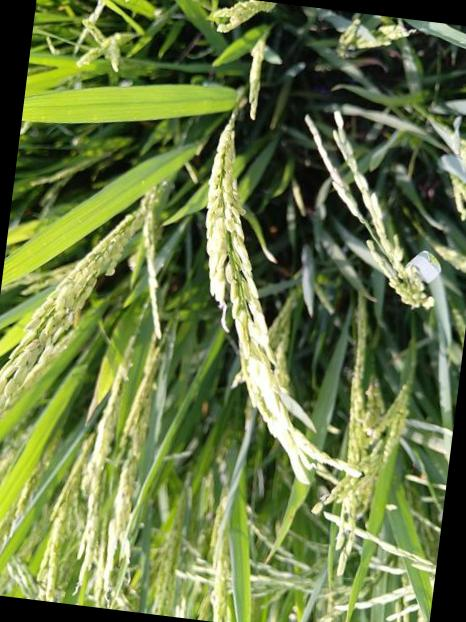Panicle Blight: (29, 349, 46, 377), (24, 338, 39, 352), (73, 307, 79, 332)
